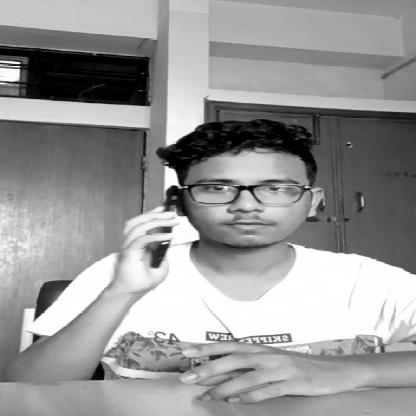Normal: (178, 140, 317, 247)
